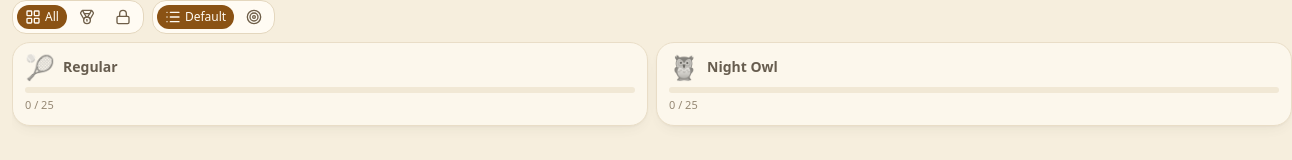
Test: AchievementsGallery (component — spec 037) › a filter that yields nothing shows the friendly empty note
What coordinates should you click on to do the following:
click the button named "earned"
I would click on:
 (87, 17)
Its box is [71,5,103,29].
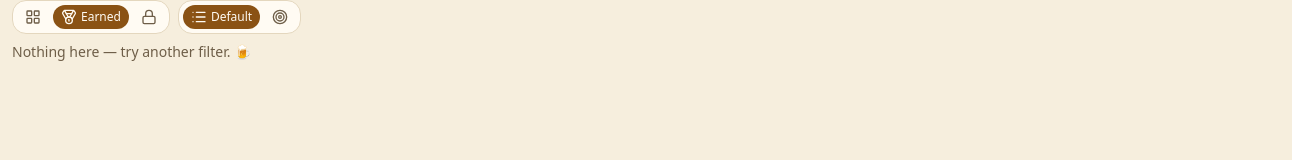
Check: the text "Nothing here — try another filter. 🍺" is shown, box [12,42,251,61]
